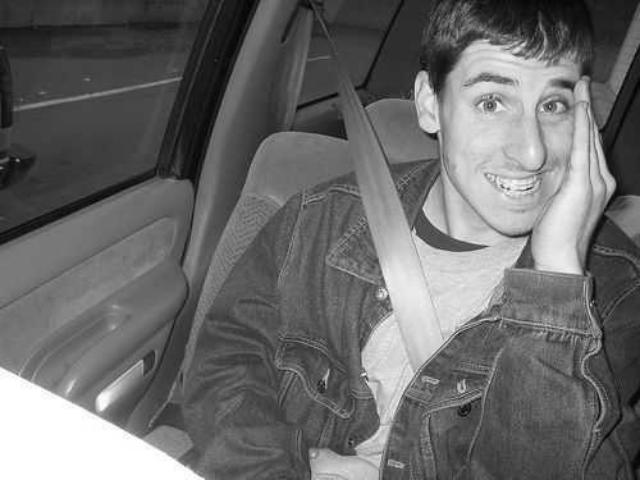SafeDriving: (532, 79, 580, 125), (470, 81, 512, 119)
Seatbelt: (298, 0, 454, 384)
